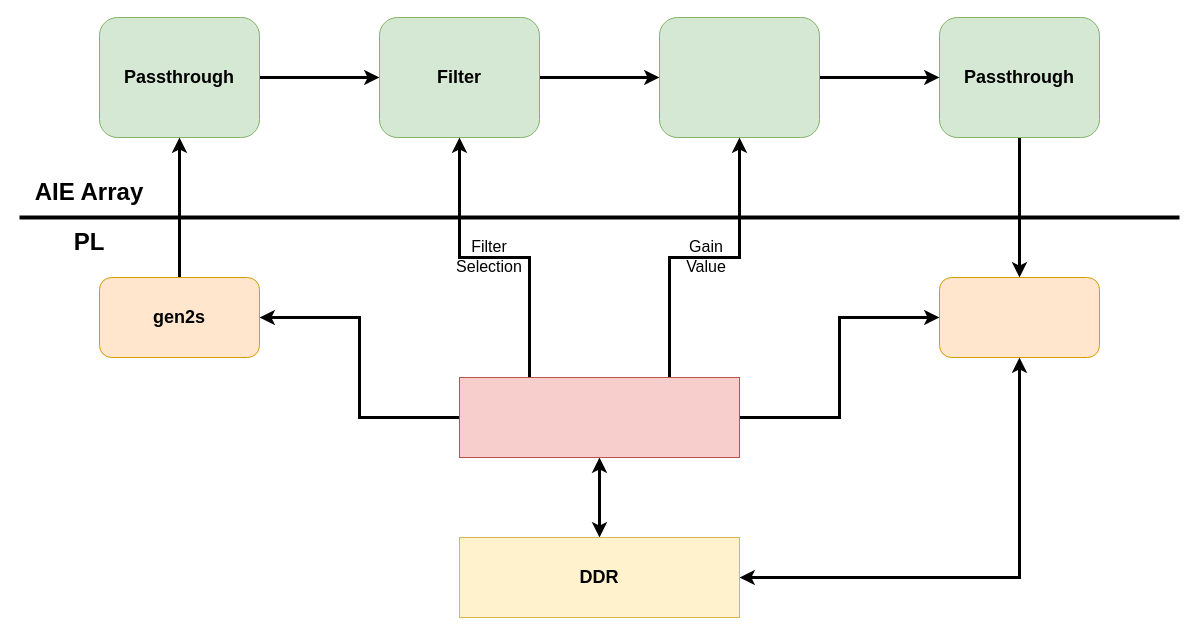
Image size: 1199x635. Some labels were removed from this diagram. Each missing label, with the centre of its shape:
Gain: [739,77]
Processing System: [599,417]
s2mm: [1019,317]
